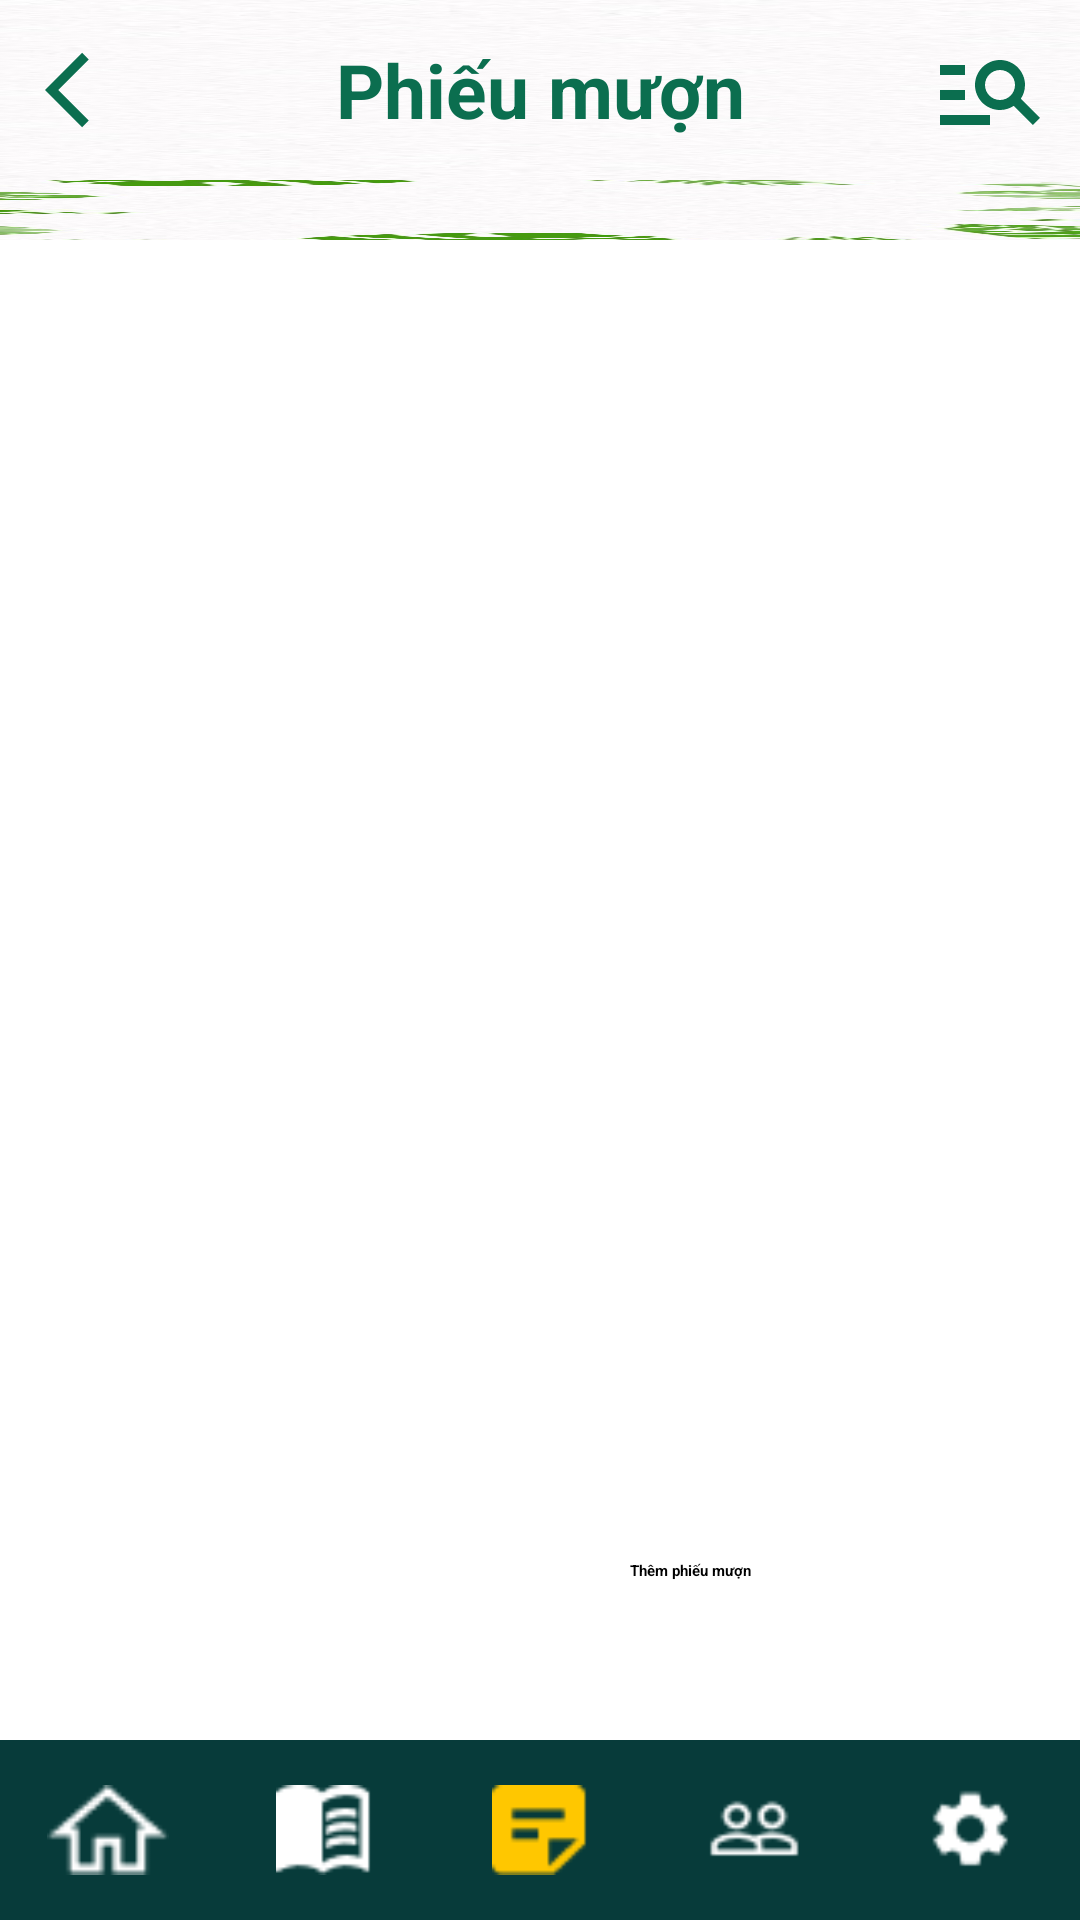

Icons on this 1080×1920 Android screen, each with its box as (x1, y1, x2, y2):
arrow back: (45, 53, 89, 127)
book: (276, 1785, 370, 1875)
homee: (47, 1785, 167, 1875)
manage search: (940, 60, 1040, 125)
phieumuon vang: (492, 1785, 586, 1875)
setting: (932, 1791, 1008, 1866)
user: (710, 1801, 799, 1856)
